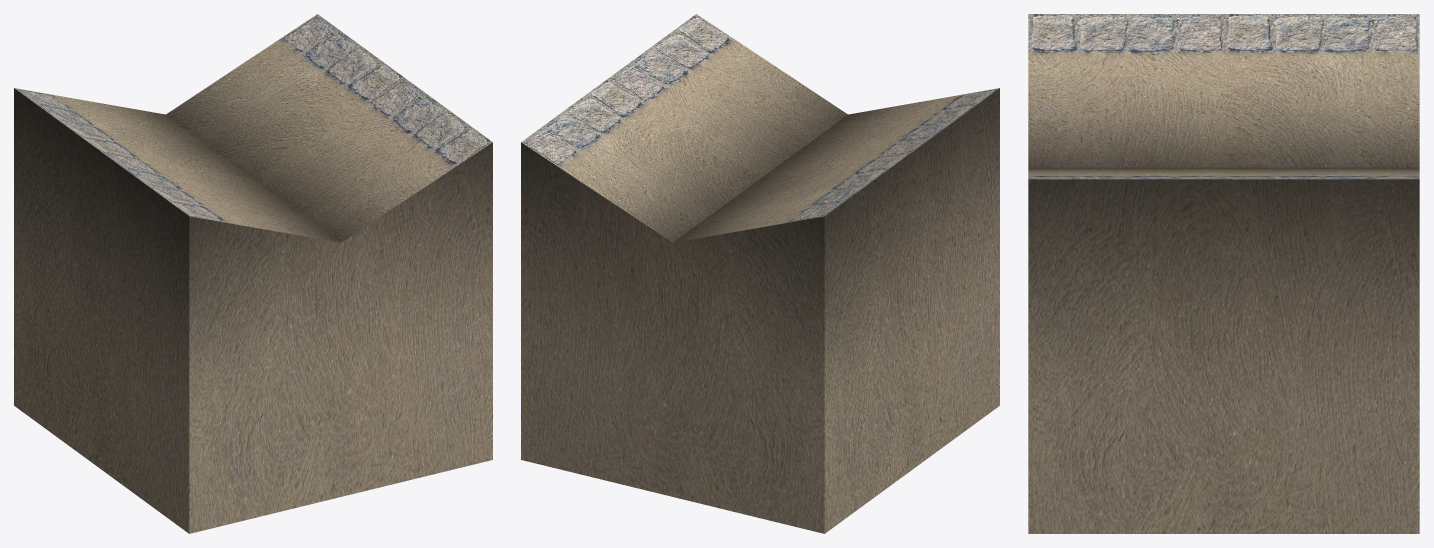
Rendered from BlockInclinedStraight.fbx.
3 views of the same model, side by side, from view 1: azimuth 30°, elevation 25°; view 2: azimuth 150°, elevation 25°; view 3: azimuth 270°, elevation 25° (orthographic). The views are drawn at different scales.
Visible parts, largest first — view 1: blockInclinedStraight; view 2: blockInclinedStraight; view 3: blockInclinedStraight.
Part boxes in pixels (x1,y1,x2,y2): blockInclinedStraight: (14, 14, 492, 533); blockInclinedStraight: (521, 14, 999, 533); blockInclinedStraight: (1028, 14, 1419, 533).
Bounding box in the file's own units: 100 × 100 × 100.
